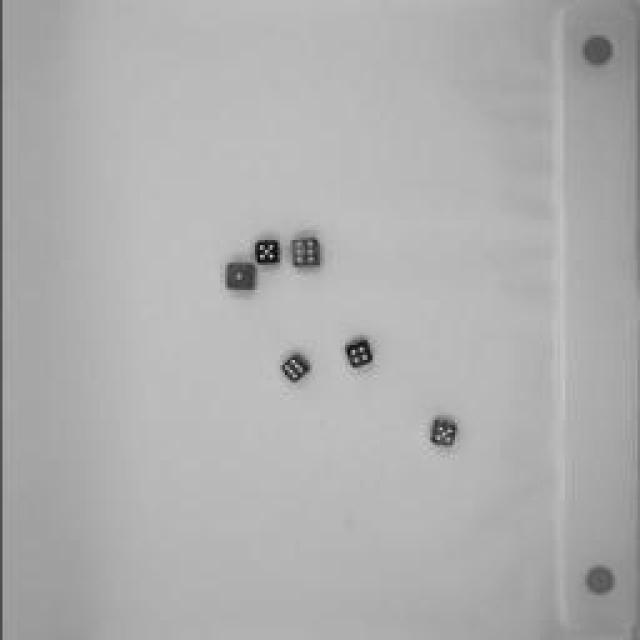dice_1: (222, 260, 256, 295)
dice_4: (339, 336, 376, 374)
dice_5: (424, 416, 461, 454), (249, 236, 286, 272)
dice_6: (274, 347, 314, 385), (287, 236, 325, 274)
